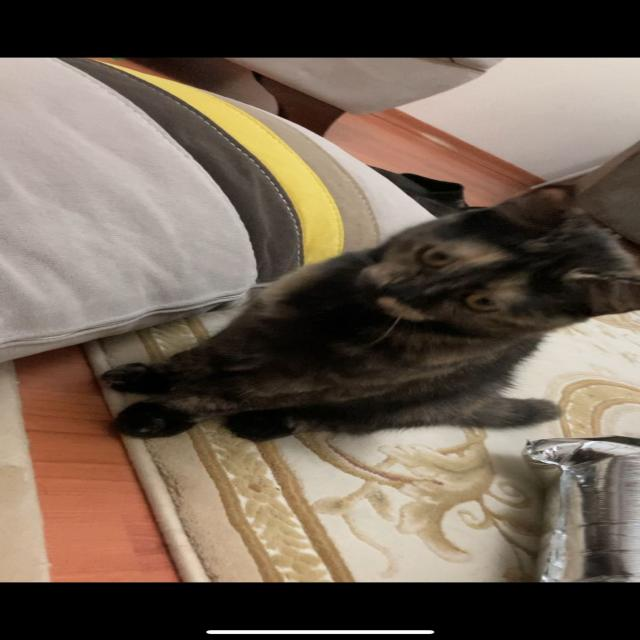authorized: (98, 182, 638, 443)
